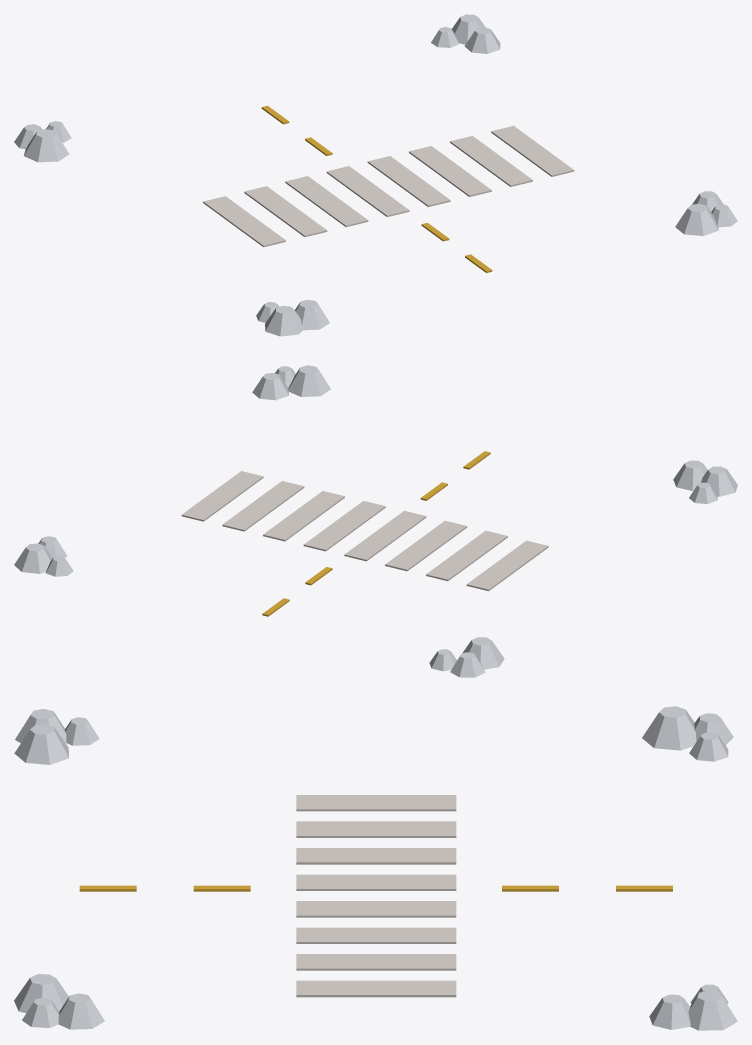
File: Road_Crosswalk_Marks.glb
3 renders of one model, top to bottom at view 1: azimuth 30°, elevation 25°; view 2: azimuth 150°, elevation 25°; view 3: azimuth 270°, elevation 25°, orthographic. The views are drawn at different scales.
Parts seen in each view (by area): view 1: Road_Crosswalk_Marks; view 2: Road_Crosswalk_Marks; view 3: Road_Crosswalk_Marks.
Boxes of the visible parts, x1,y1,x2,y2 form: Road_Crosswalk_Marks: [14, 14, 737, 336]; Road_Crosswalk_Marks: [14, 365, 737, 677]; Road_Crosswalk_Marks: [14, 706, 737, 1030].
Size of the model in its own units: 31.71 by 1.77 by 31.71.
